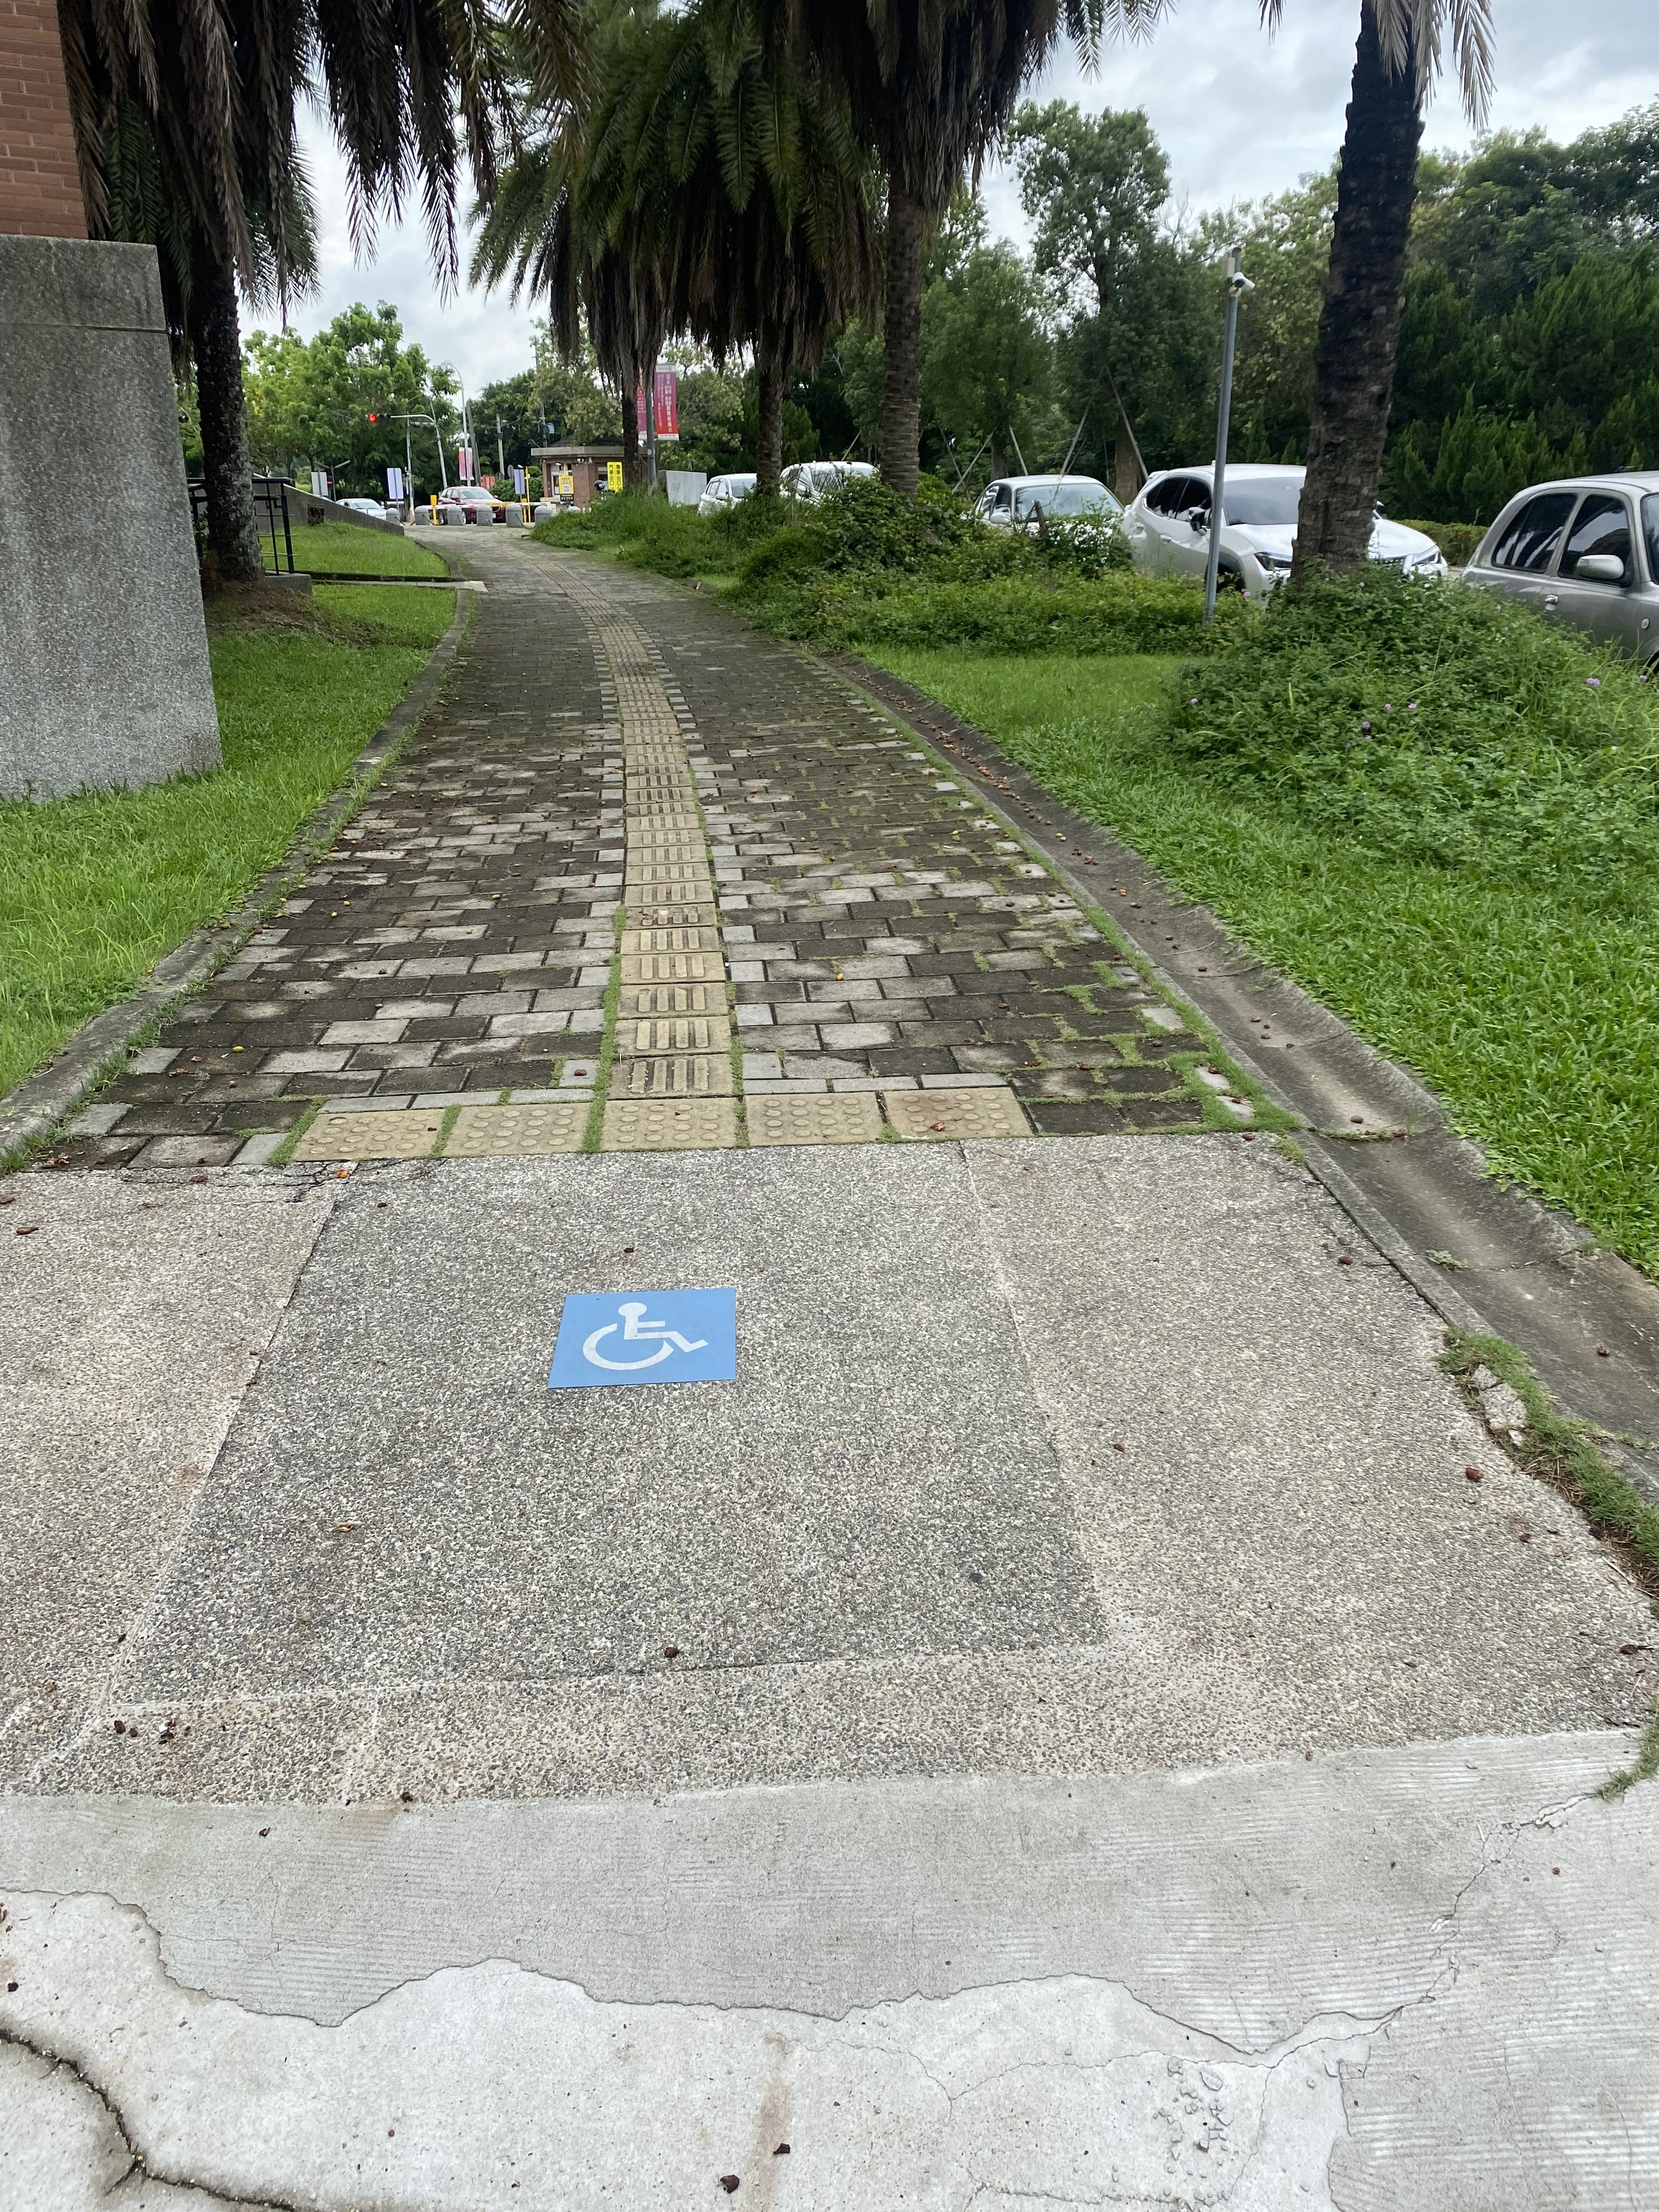0: (5, 751, 1659, 2212)
sidewalk: (401, 514, 945, 864)
